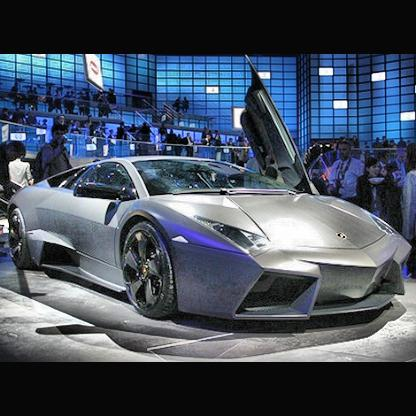Lamborghini Reventon Coupe 2008: (15, 154, 416, 334)
